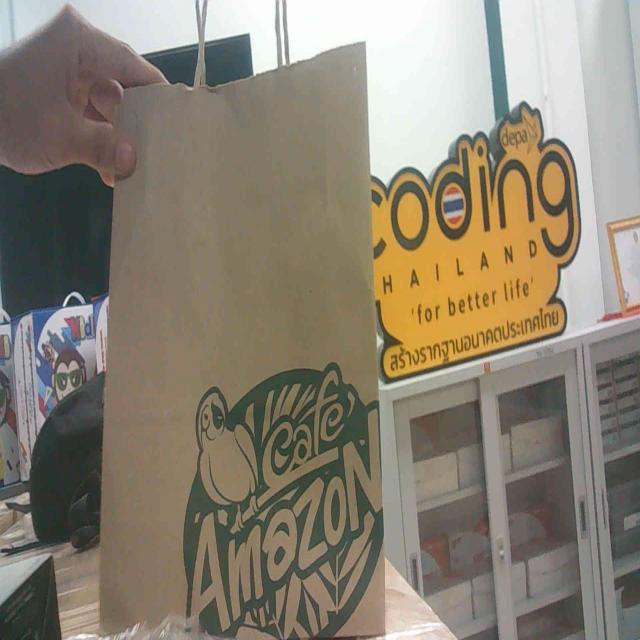bag: (90, 28, 397, 640)
